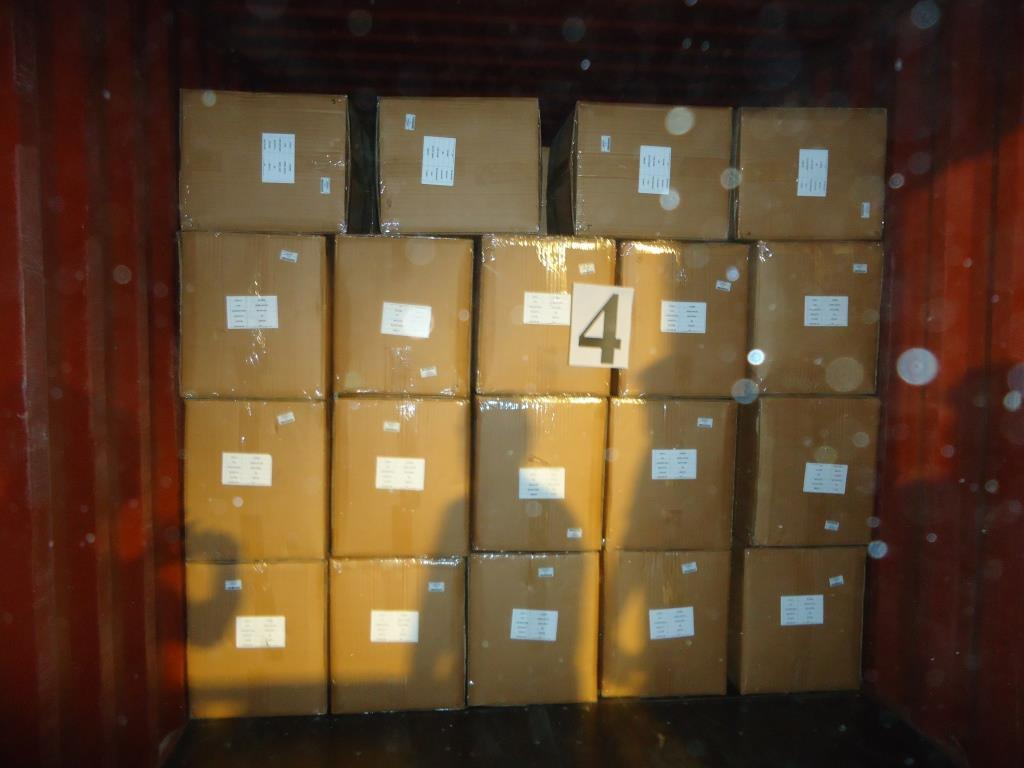carton: (179, 231, 331, 399), (551, 101, 731, 241), (179, 90, 349, 233), (184, 398, 330, 561), (475, 233, 615, 396), (332, 233, 472, 396), (376, 95, 540, 234), (330, 395, 470, 556), (186, 560, 328, 717), (734, 396, 879, 545), (328, 556, 465, 712), (471, 396, 607, 551), (617, 239, 750, 396), (748, 240, 884, 393), (467, 551, 600, 705), (604, 398, 737, 550), (736, 106, 886, 240), (731, 545, 865, 693), (601, 549, 730, 697)
